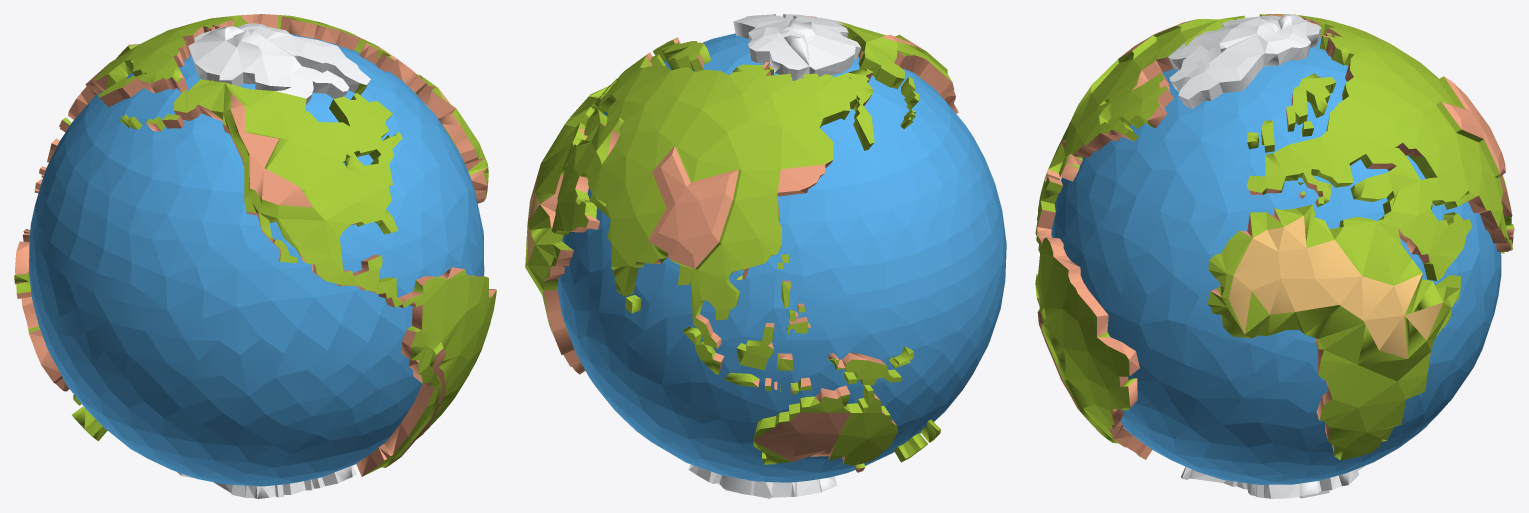
File: EarthAfterGlobalWarming.fbx
The picture shows the model from 3 angles, left to right: view 1: azimuth 30°, elevation 25°; view 2: azimuth 150°, elevation 25°; view 3: azimuth 270°, elevation 25°; orthographic projection.
Parts seen in each view (by area): view 1: Object; view 2: Object; view 3: Object.
Boxes of the visible parts, x1=… form: Object: x1=14, y1=14, x2=496, y2=498; Object: x1=525, y1=14, x2=1006, y2=498; Object: x1=1035, y1=14, x2=1514, y2=498.
Size of the model in its own units: 208 by 223 by 209.
